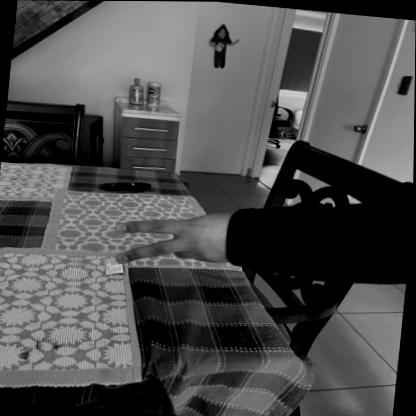H: (109, 197, 254, 276)
